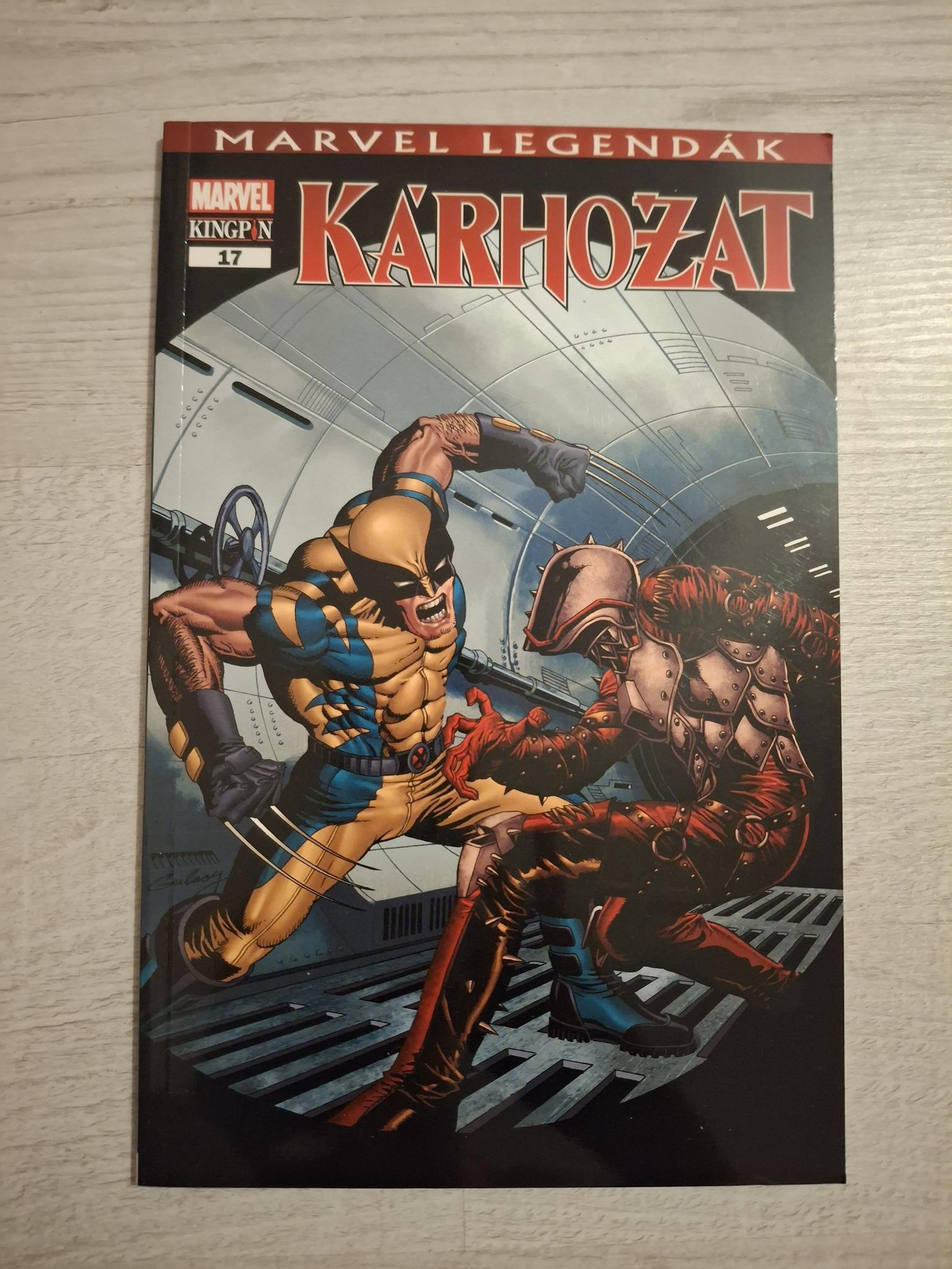comic: (139, 122, 850, 1189)
